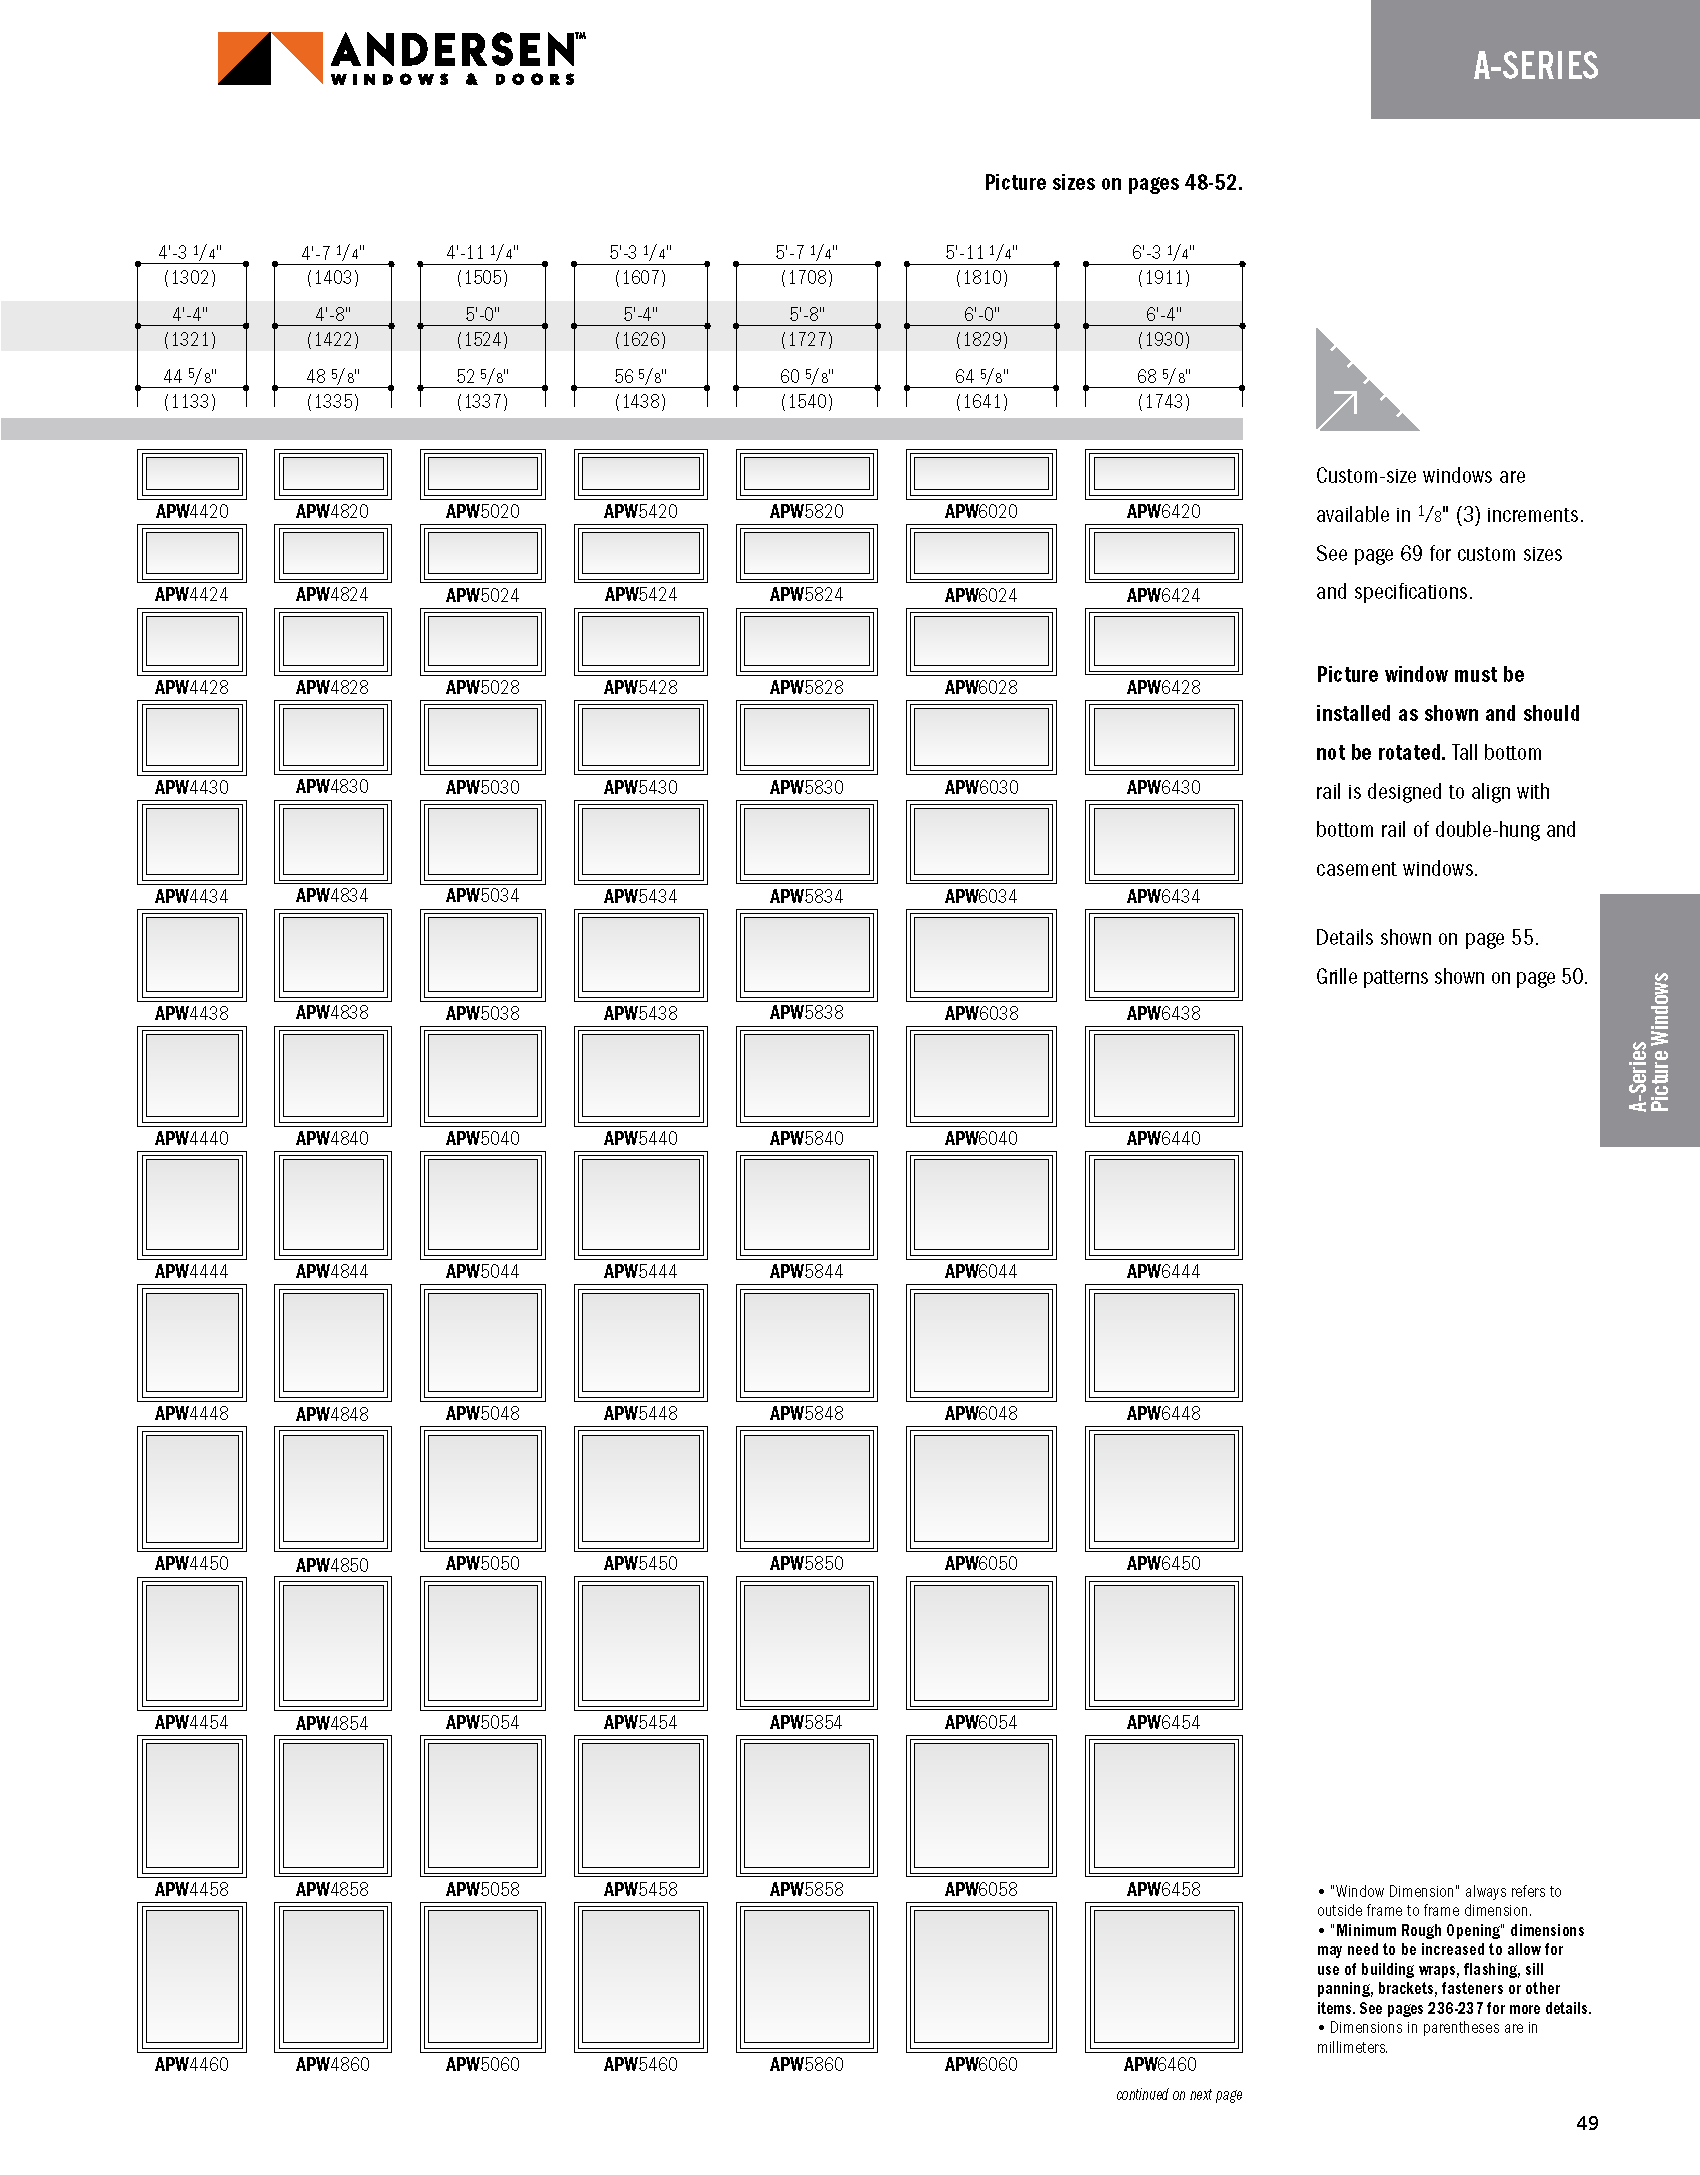tabledetected: (127, 242, 1245, 2071)
